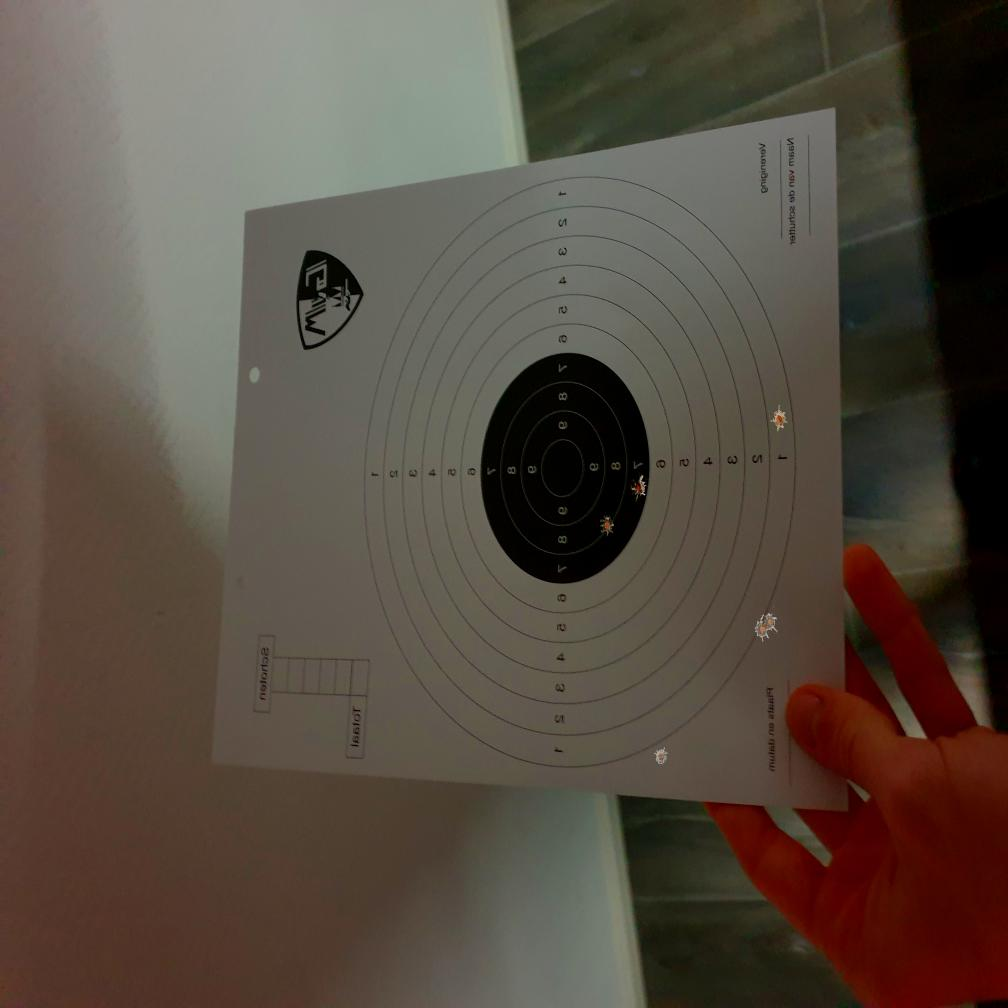0: (654, 746, 668, 766), (765, 613, 776, 631)
1: (771, 406, 786, 431), (755, 621, 768, 642)
7: (630, 475, 648, 502)
8: (599, 516, 614, 536)
Target: (363, 176, 796, 772)
black_contour: (480, 352, 652, 585)
